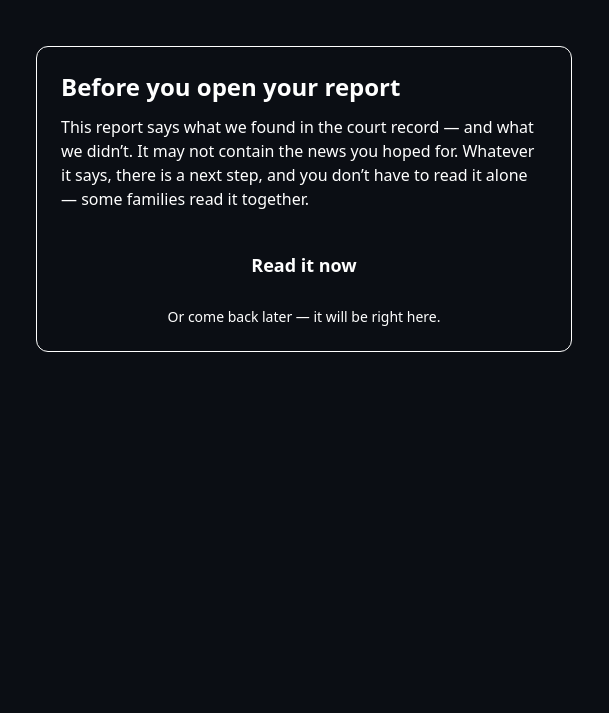
Test: report — remembered interstitial and linked resources › shows the interstitial the first time and remembers the choice
Later steps or results of the test are not shown.
Click the button "Read it now" at (304, 265), box [61,235,547,295]
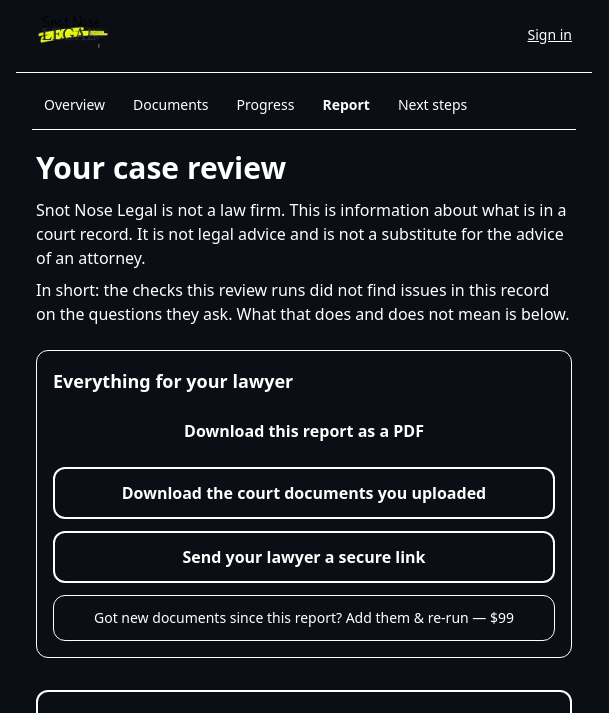
Now the heading "Your case review" is shown, box [36,147,286,188]
